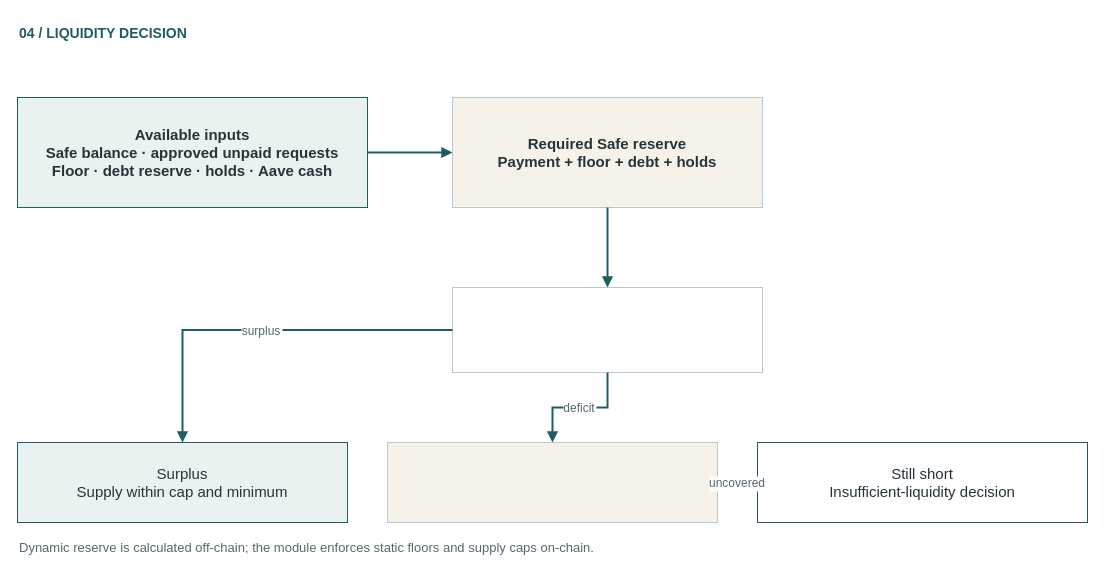
The diagram is 1105 pixels wide and 574 high, and some of its shapes have lost their labels. The centre of each missing label's shape, as x and y in pixels:
"Compare Safe balance with required reserve" goes at (x=607, y=329).
"Deficit Withdraw up to aToken / pool cash" goes at (x=552, y=482).
